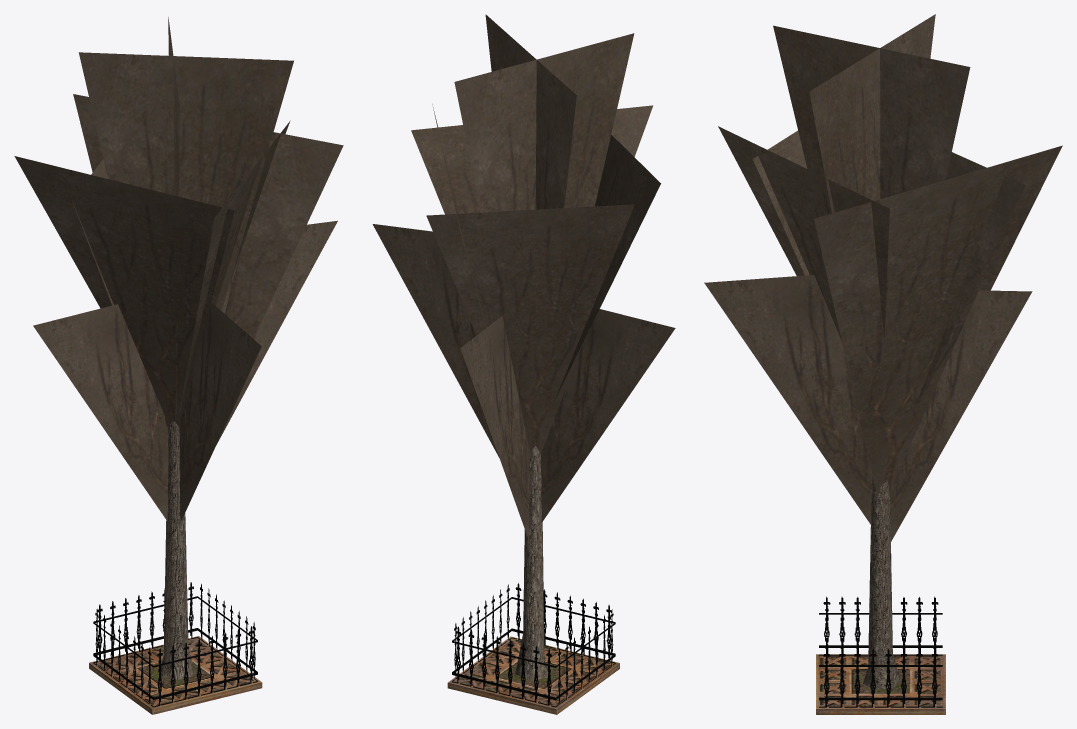
The model's file is tree2c_base.fbx.
The picture shows the model from 3 angles, left to right: view 1: azimuth 30°, elevation 25°; view 2: azimuth 150°, elevation 25°; view 3: azimuth 270°, elevation 25°; orthographic projection. The views are drawn at different scales.
Parts seen in each view (by area): view 1: mesh_4, mesh_0, mesh_2, mesh_3; view 2: mesh_4, mesh_0, mesh_2, mesh_3; view 3: mesh_4, mesh_2, mesh_3, mesh_0.
Part boxes in pixels (<box>): mesh_4: <box>14,17,343,522</box>; mesh_0: <box>93,582,257,707</box>; mesh_2: <box>89,636,262,714</box>; mesh_3: <box>161,420,194,679</box>; mesh_4: <box>372,14,675,540</box>; mesh_0: <box>452,583,615,707</box>; mesh_2: <box>447,636,619,714</box>; mesh_3: <box>515,445,548,680</box>; mesh_4: <box>704,14,1062,541</box>; mesh_2: <box>816,654,945,714</box>; mesh_3: <box>863,474,900,688</box>; mesh_0: <box>819,596,942,707</box>.
Size of the model in its own units: 559 by 1084 by 552.
4 materials, 4 textured.
